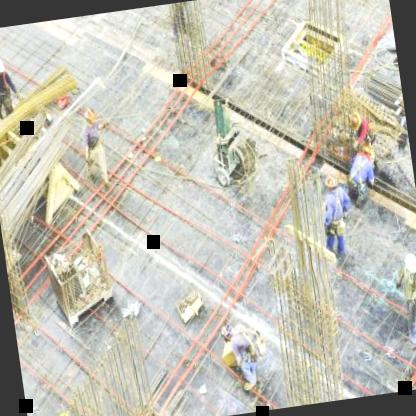helmet: (344, 108, 364, 136), (323, 168, 341, 196), (401, 249, 416, 279), (218, 318, 234, 344), (81, 103, 97, 129), (358, 140, 376, 162), (0, 53, 5, 80)
